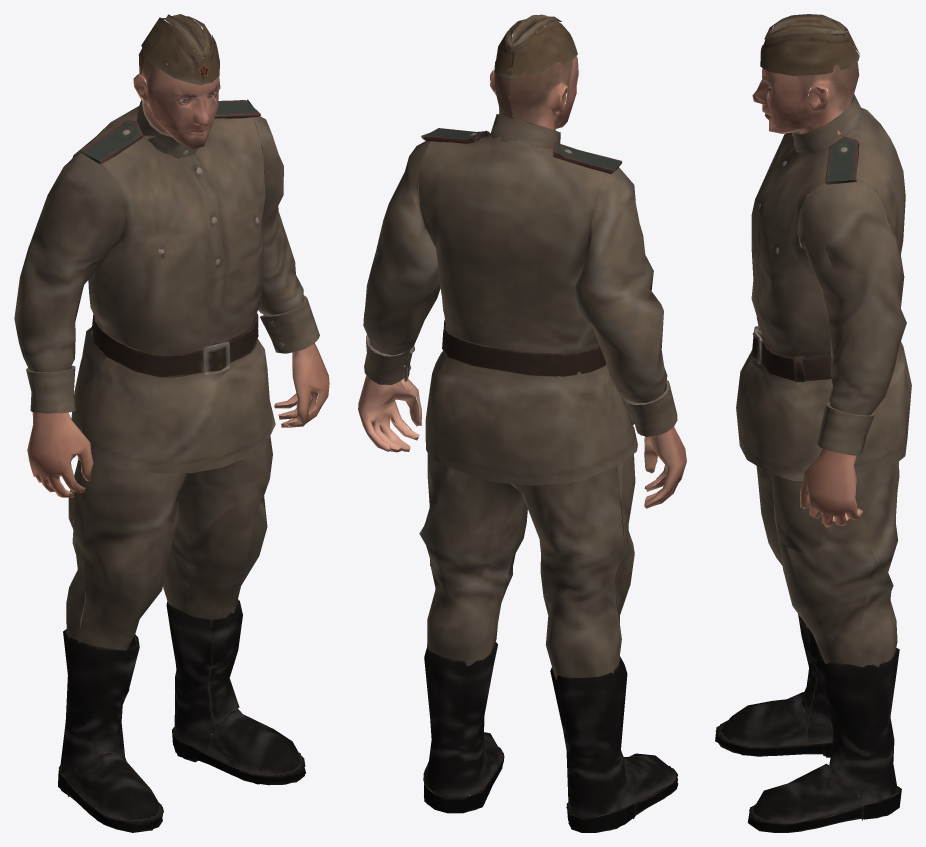
The model's file is SM_ww2_soviet_uniform.glb.
The picture shows the model from 3 angles, left to right: view 1: azimuth 30°, elevation 25°; view 2: azimuth 150°, elevation 25°; view 3: azimuth 270°, elevation 25°; orthographic projection.
Visible parts, largest first — view 1: SM_ww2_soviet_uniform; view 2: SM_ww2_soviet_uniform; view 3: SM_ww2_soviet_uniform.
Part boxes in pixels (x1=…): SM_ww2_soviet_uniform: x1=14, y1=14, x2=329, y2=832; SM_ww2_soviet_uniform: x1=358, y1=14, x2=686, y2=832; SM_ww2_soviet_uniform: x1=715, y1=14, x2=911, y2=832.
Size of the model in its own units: 0.7799 by 1.85 by 0.4316.
4 materials, 4 textured.
